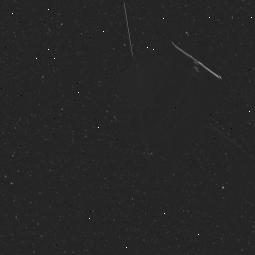double_start: (126, 26, 230, 132)
